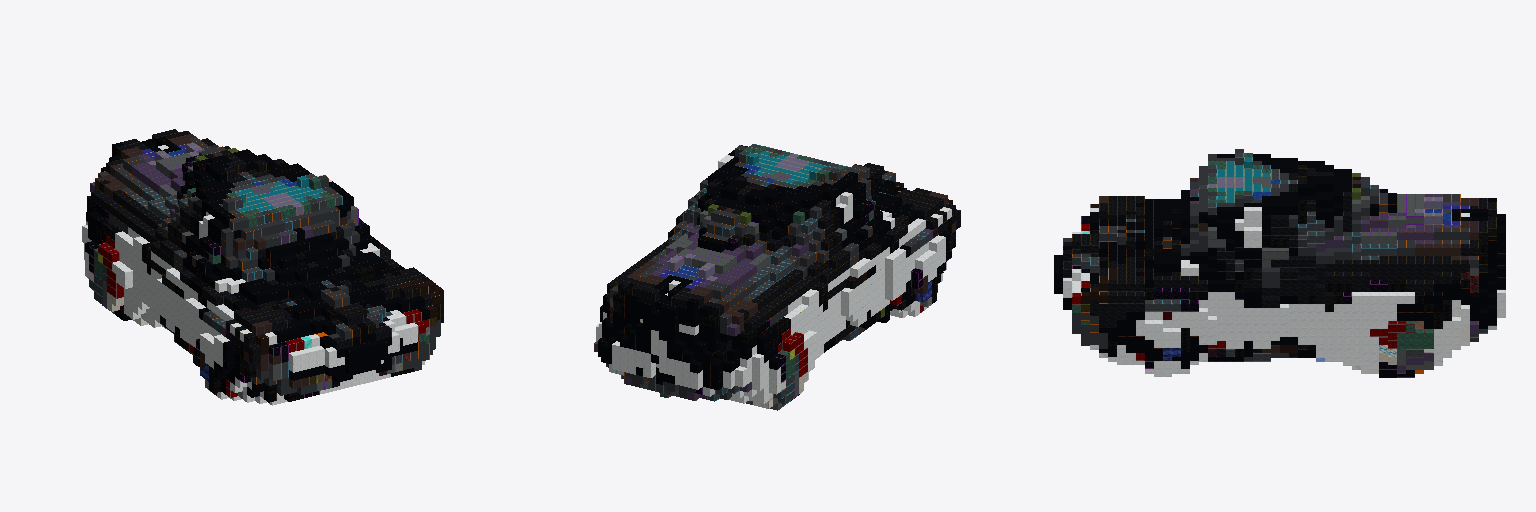
3 renders of one model, left to right at view 1: azimuth 30°, elevation 25°; view 2: azimuth 150°, elevation 25°; view 3: azimuth 270°, elevation 25°, orthographic.
Size of the model in its own units: 27 by 20 by 50.
Materials: 1 (1 with a texture image).